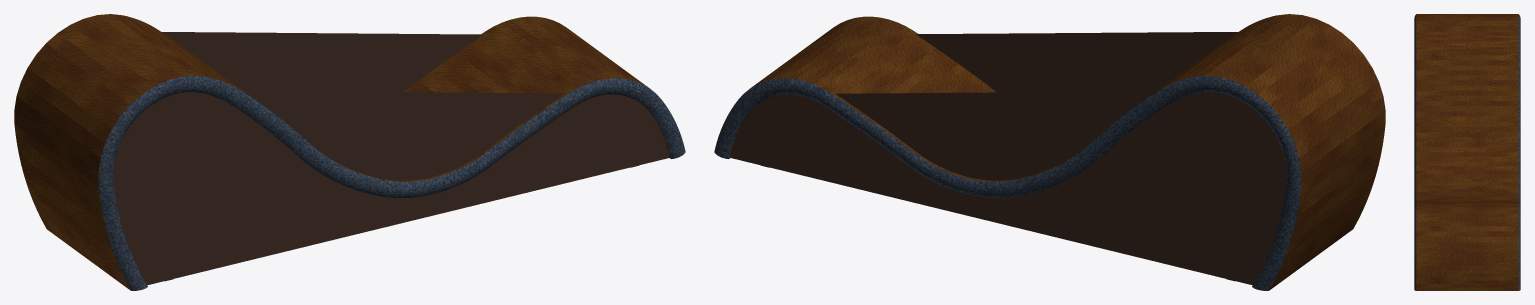
File: sex sofa.fbx
3 views of the same model, side by side, from view 1: azimuth 30°, elevation 25°; view 2: azimuth 150°, elevation 25°; view 3: azimuth 270°, elevation 25° (orthographic). The views are drawn at different scales.
Visible parts, largest first — view 1: sex_sofa1; view 2: sex_sofa1; view 3: sex_sofa1.
Part boxes in pixels (<box>): sex_sofa1: <box>14,14,685,290</box>; sex_sofa1: <box>714,14,1385,290</box>; sex_sofa1: <box>1414,14,1520,290</box>.
Size of the model in its own units: 205 by 69.45 by 53.
